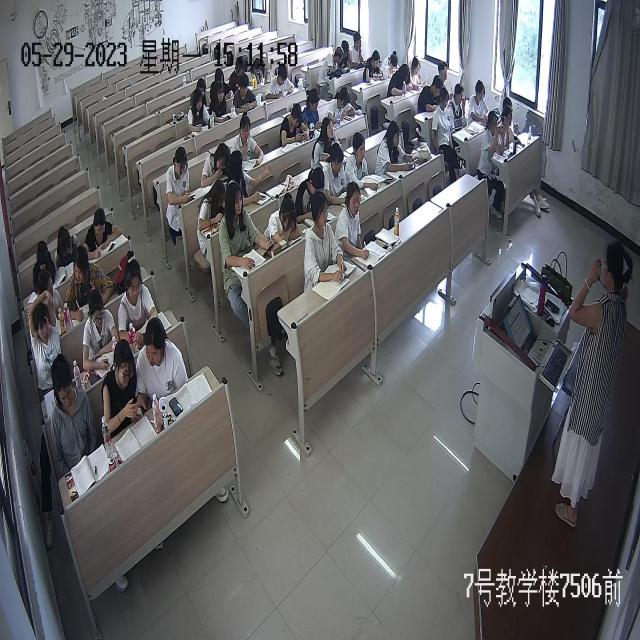distracted: (49, 355, 96, 468), (135, 318, 188, 402), (65, 247, 116, 319), (224, 148, 270, 206), (231, 114, 265, 168), (38, 268, 65, 321), (55, 226, 78, 270), (319, 47, 343, 81), (340, 38, 356, 70)
focused: (304, 191, 348, 286), (117, 252, 159, 342), (28, 295, 65, 392), (82, 288, 121, 371), (335, 182, 369, 263), (345, 132, 381, 193), (297, 167, 328, 226), (85, 210, 123, 255), (198, 180, 228, 233), (31, 240, 59, 296), (325, 143, 350, 205), (311, 117, 343, 163), (432, 89, 454, 150), (230, 75, 257, 117), (264, 64, 294, 100), (497, 104, 518, 151), (418, 76, 444, 110), (470, 80, 490, 123), (448, 86, 468, 129), (388, 64, 413, 98), (362, 49, 382, 85), (348, 30, 366, 70), (228, 58, 250, 90), (380, 49, 401, 79), (248, 55, 265, 87), (437, 60, 450, 93)
sleep: (265, 192, 307, 244)
using_phone: (220, 181, 276, 272), (100, 339, 145, 427), (377, 121, 420, 174), (166, 146, 195, 206), (478, 111, 506, 162), (279, 103, 312, 146), (201, 142, 231, 189), (327, 85, 355, 128), (188, 89, 214, 133), (304, 87, 324, 140), (209, 84, 234, 126), (209, 67, 233, 102), (408, 56, 429, 92)
